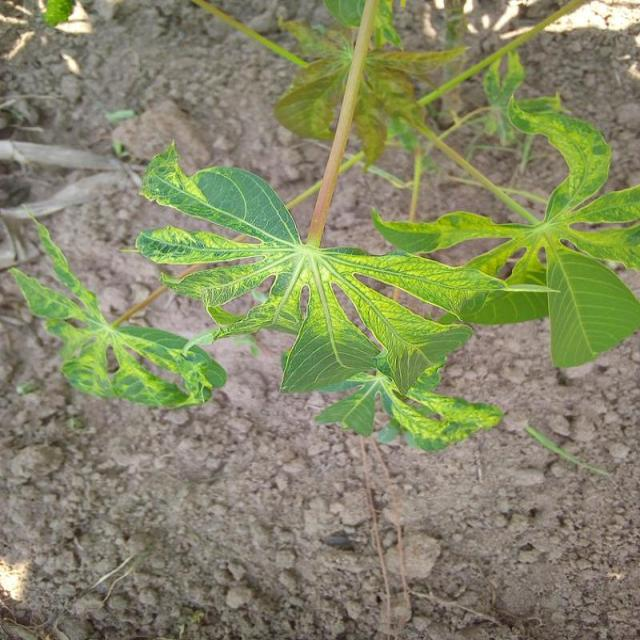cassava leaf: (9, 2, 638, 456), (8, 203, 227, 410), (544, 240, 638, 369)
